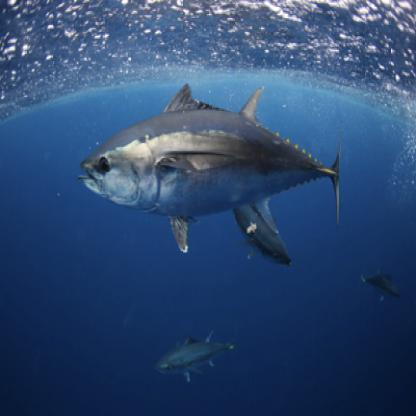Scombridae -Tunas-: (75, 79, 345, 262), (150, 324, 248, 391)
